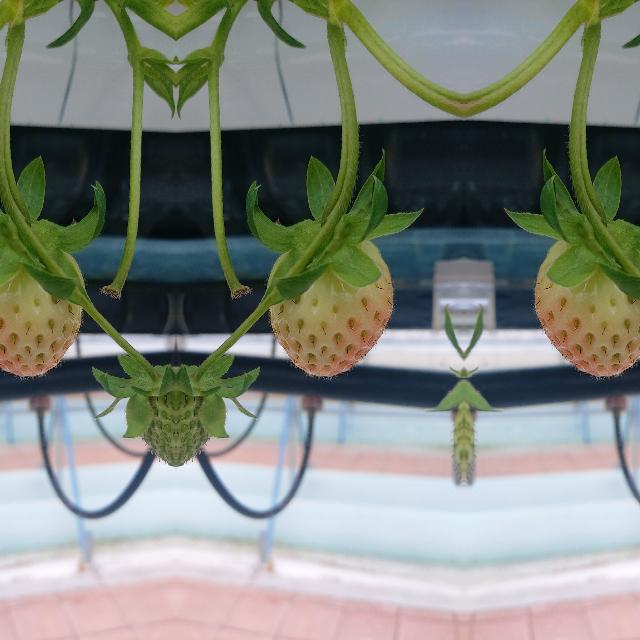Health_25: (122, 367, 176, 467), (175, 367, 228, 467)
Health_50: (268, 240, 392, 376), (534, 240, 640, 376), (0, 240, 82, 376)
